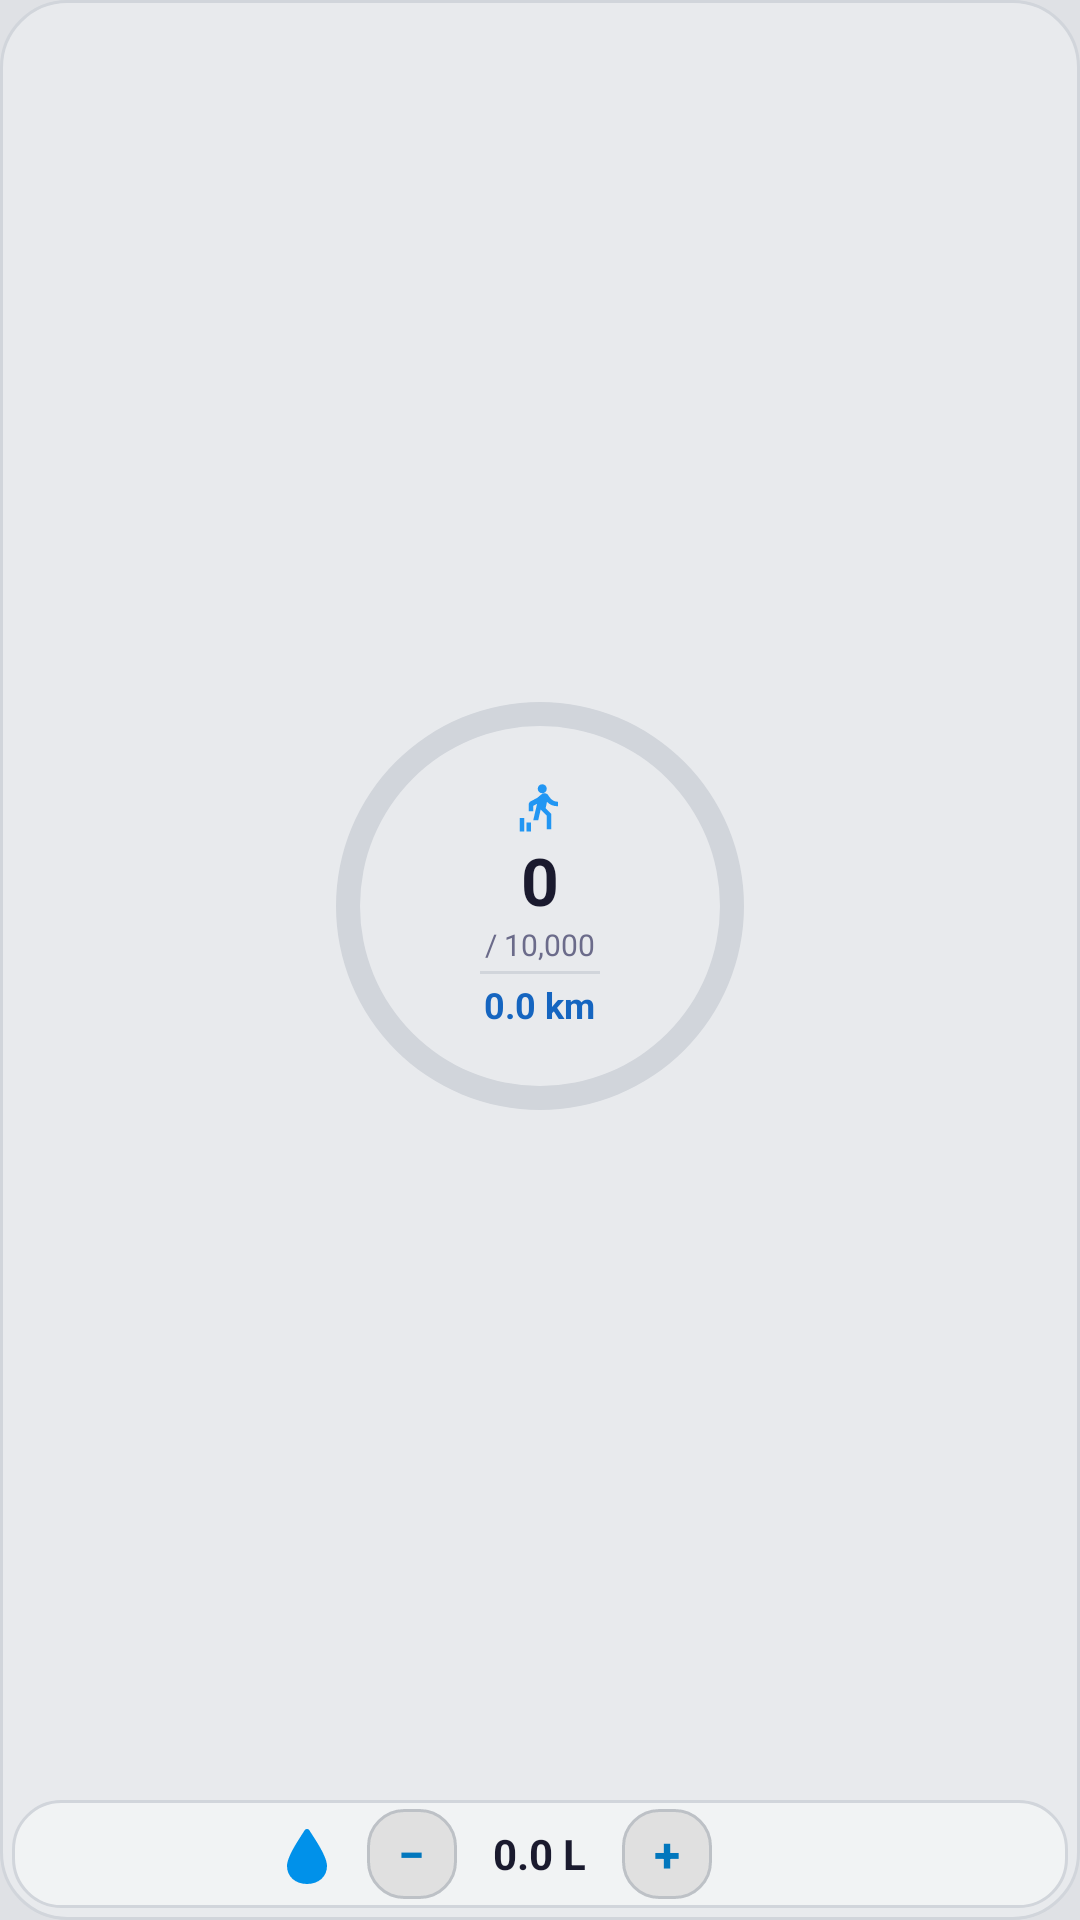

Icons on this 1080x1920 Android screen, each with the point to tap as point (x, y):
Steps: point (538, 808)
Water intake: point (307, 1856)
